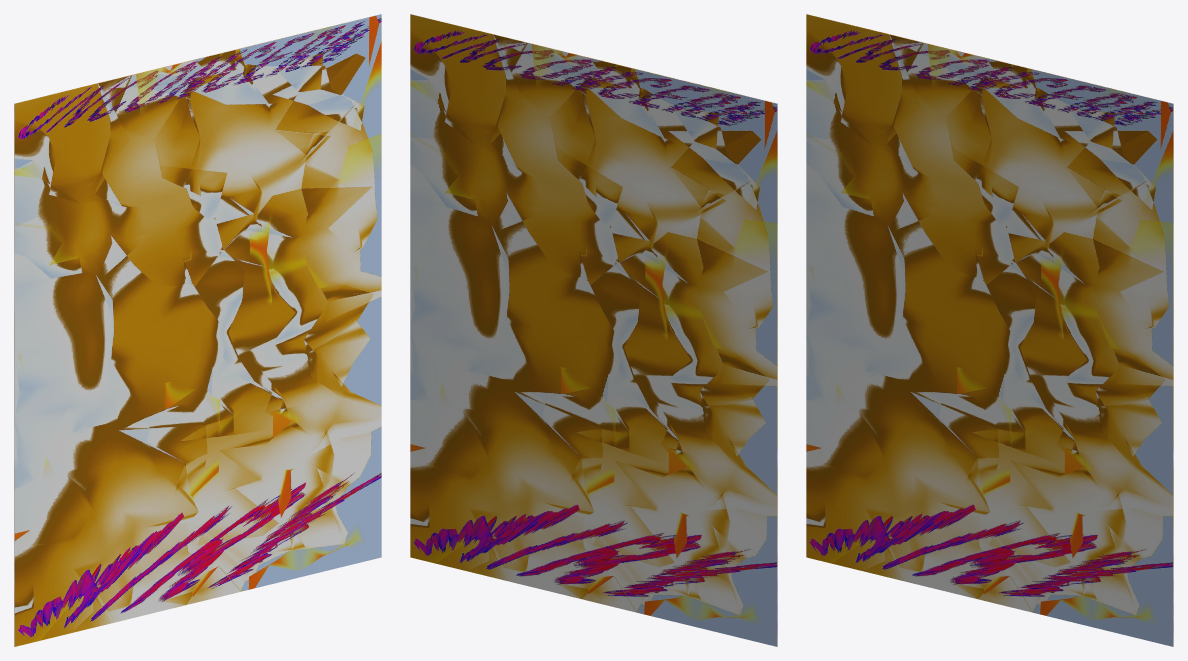
File: poster-rig-4.glb
The picture shows the model from 3 angles, left to right: view 1: azimuth 30°, elevation 25°; view 2: azimuth 150°, elevation 25°; view 3: azimuth 330°, elevation 25°; orthographic projection.
Visible parts, largest first — view 1: Cube; view 2: Cube; view 3: Cube.
Boxes of the visible parts, left/top/right/bottom form: Cube: left=14, top=14, right=381, bottom=646; Cube: left=410, top=14, right=777, bottom=646; Cube: left=806, top=14, right=1173, bottom=646.
Bounding box in the file's own units: 297 × 420 × 0.5.
1 material, 1 textured.
